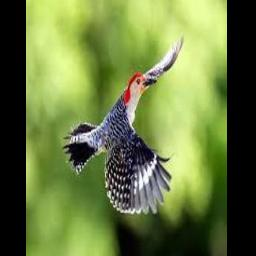Woodpecker: (64, 33, 184, 214)
